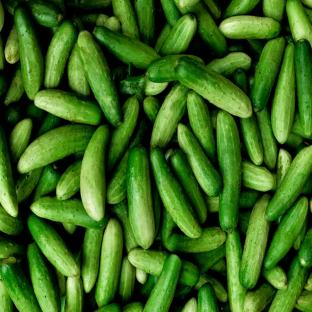Cucumber: (151, 146, 201, 238), (175, 57, 251, 117), (78, 31, 121, 126), (18, 125, 94, 173), (28, 214, 80, 278), (266, 147, 311, 220), (264, 197, 308, 270), (178, 124, 222, 196), (217, 111, 242, 232), (94, 26, 159, 70), (240, 195, 270, 289), (80, 125, 109, 221), (127, 146, 154, 248), (178, 0, 226, 57), (170, 150, 207, 223), (271, 43, 298, 143), (14, 7, 43, 99), (250, 37, 285, 111), (151, 84, 189, 148), (31, 197, 108, 228), (95, 219, 122, 307), (35, 90, 102, 125), (108, 96, 139, 171), (105, 0, 155, 46), (0, 258, 41, 311), (28, 244, 60, 311), (270, 256, 308, 311), (144, 255, 181, 311), (187, 91, 216, 162), (0, 125, 18, 217), (159, 14, 197, 56), (226, 229, 245, 311), (295, 40, 311, 136), (111, 199, 138, 252), (219, 16, 281, 39), (167, 228, 226, 252), (256, 107, 277, 169), (67, 42, 90, 97), (240, 114, 263, 165), (8, 118, 33, 163), (128, 249, 168, 276), (286, 0, 311, 43), (207, 52, 251, 76), (146, 55, 185, 82), (191, 244, 226, 274), (15, 167, 44, 203), (56, 160, 81, 200), (26, 0, 63, 27), (242, 161, 274, 191), (34, 164, 59, 201), (244, 282, 275, 311), (195, 275, 228, 302), (4, 63, 24, 105), (119, 256, 135, 303), (0, 206, 24, 235), (64, 277, 83, 311), (54, 0, 112, 11), (0, 234, 25, 258), (277, 149, 292, 189), (161, 210, 177, 246), (262, 266, 287, 289), (154, 23, 173, 53), (298, 228, 312, 268), (198, 283, 218, 311), (5, 24, 19, 63), (291, 112, 311, 139), (37, 114, 60, 137), (293, 215, 308, 250), (145, 76, 168, 96), (143, 97, 160, 124), (139, 275, 158, 299), (130, 119, 146, 147), (0, 279, 13, 311), (239, 189, 259, 208), (295, 290, 312, 312), (26, 103, 44, 122), (247, 40, 264, 60), (238, 211, 251, 235), (78, 14, 97, 30), (286, 133, 303, 149), (104, 16, 120, 33), (205, 195, 218, 212), (182, 298, 198, 311), (176, 0, 198, 9), (212, 259, 226, 273), (123, 302, 143, 311), (136, 268, 147, 284), (0, 36, 5, 70), (62, 223, 77, 234), (96, 14, 109, 25), (165, 149, 174, 161), (305, 273, 311, 290)
